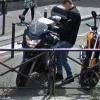Motorcycle: (4, 12, 60, 100)
